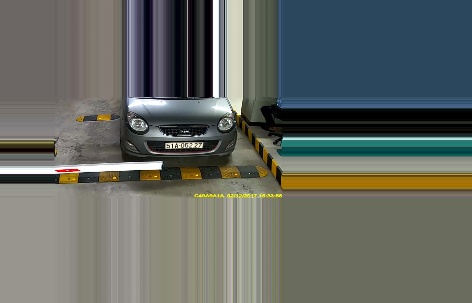plate: (165, 139, 203, 151)
